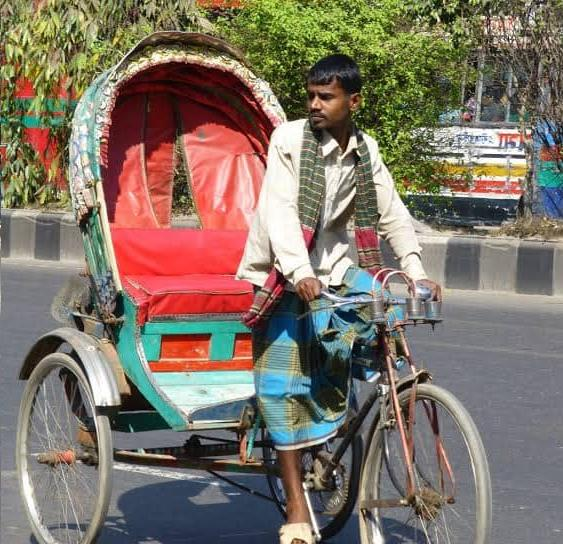Rickshaw: (21, 19, 483, 482)
